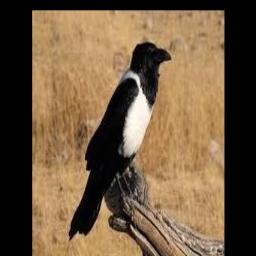Crow: (68, 42, 172, 242)
